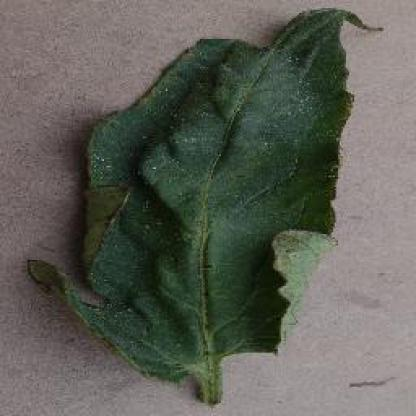bad leaf: (75, 6, 413, 394), (18, 147, 209, 328)
